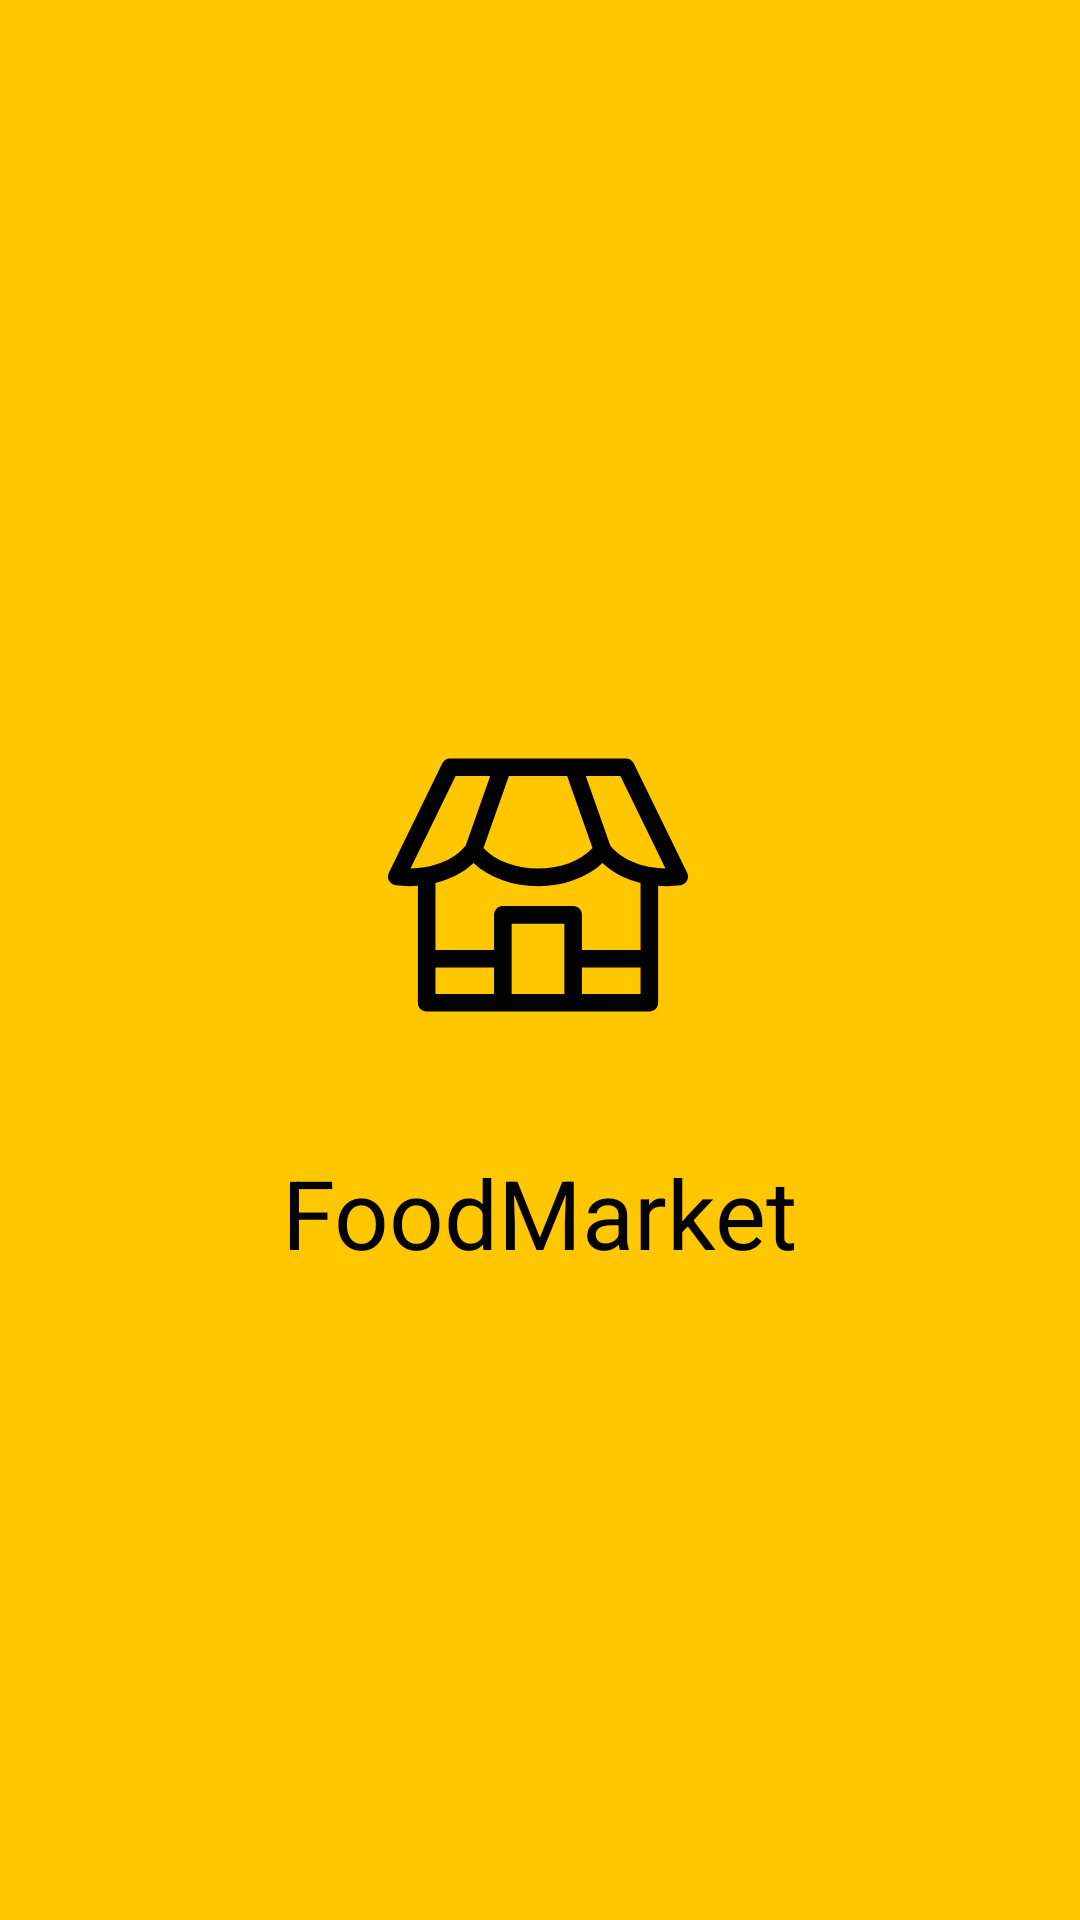

Named icons in this screenshot (1080px x 1920px) and their bounding boxes, (x1, y1, x2, y2):
shop: (388, 758, 688, 1012)
